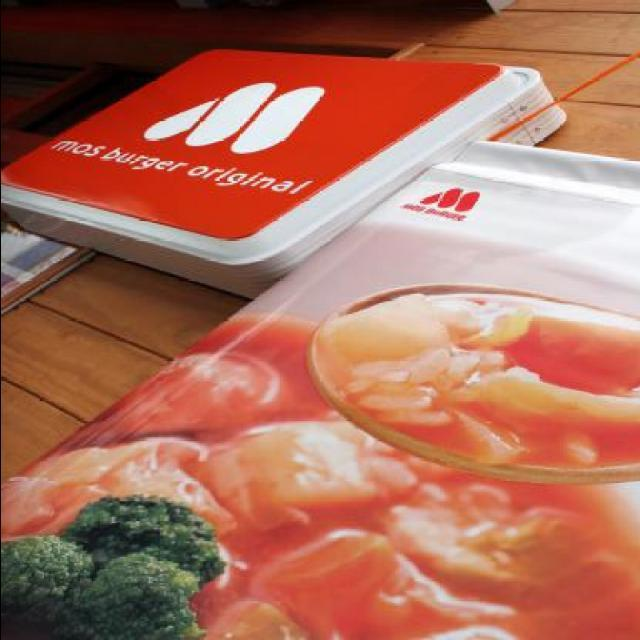Broccoli: (0, 494, 228, 640)
